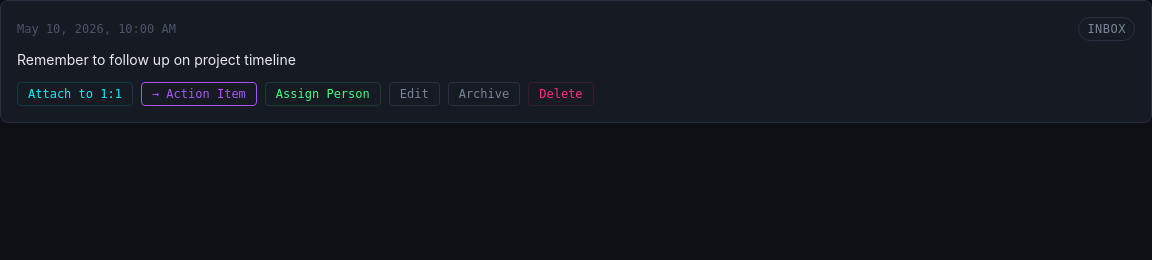
QuickNoteCard › should show convert person picker when no person assigned and convert clicked
The width and height of the screenshot is (1152, 260).
Step 1. Click the button with test id "quick-note-convert-btn" → click(199, 94), box 141,82 -> 257,106
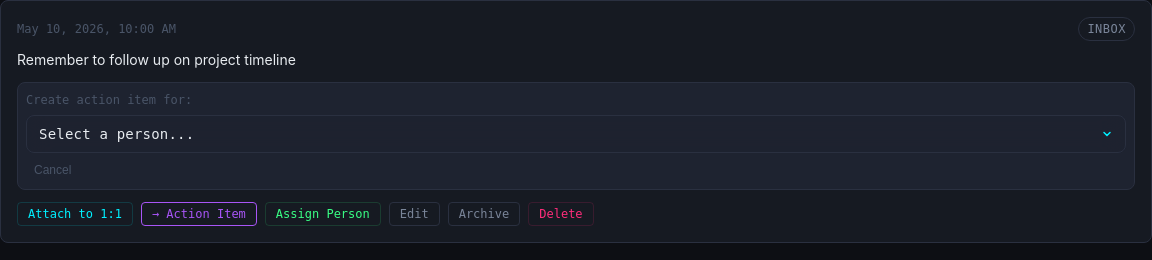
Check: the element with test id "convert-person-picker" is shown, box 17,82 -> 1135,190
